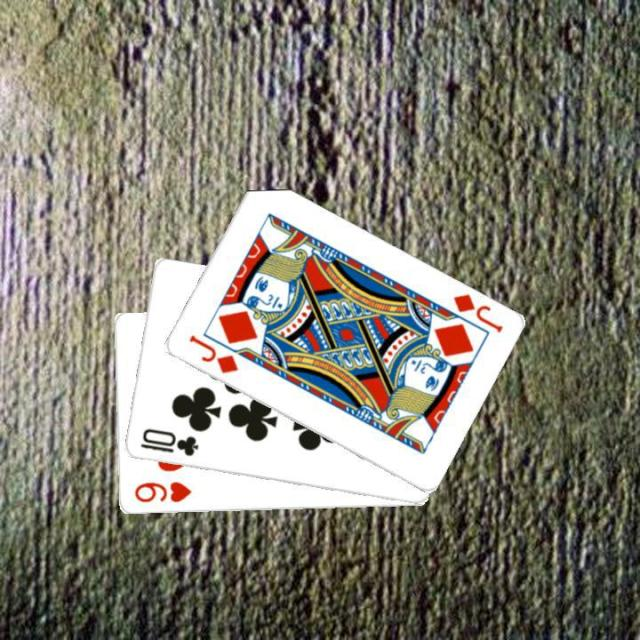10C: (136, 425, 200, 459)
9H: (130, 478, 193, 505)
JD: (448, 290, 505, 335), (184, 331, 239, 376)
